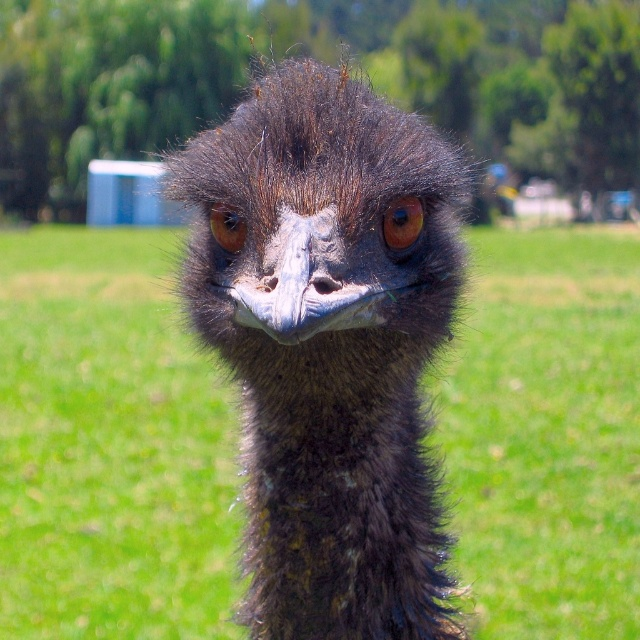Ostrich: (159, 55, 489, 640)
